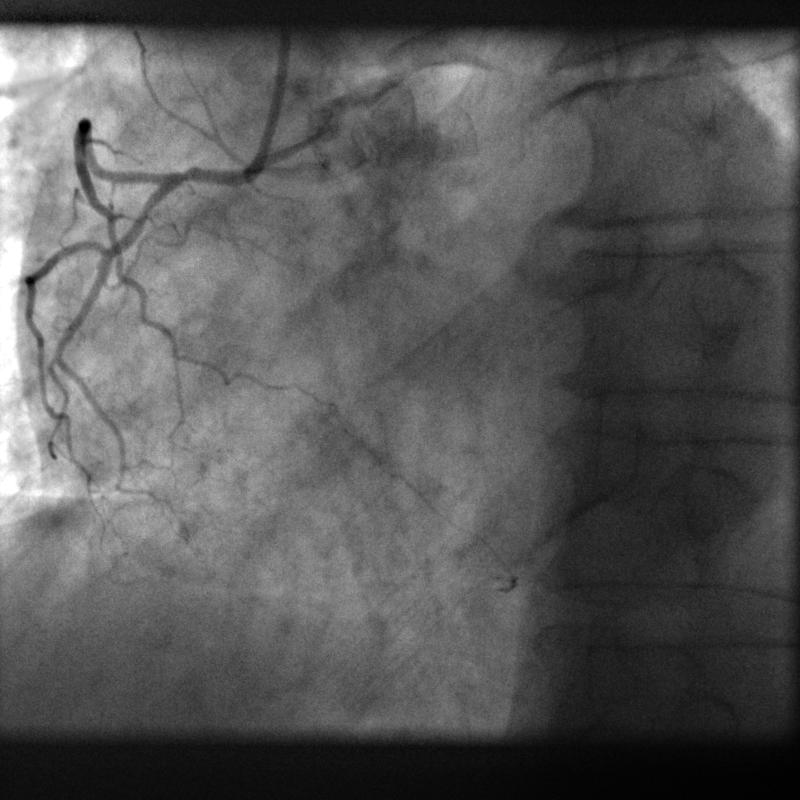Stenosis: (165, 159, 201, 201)
